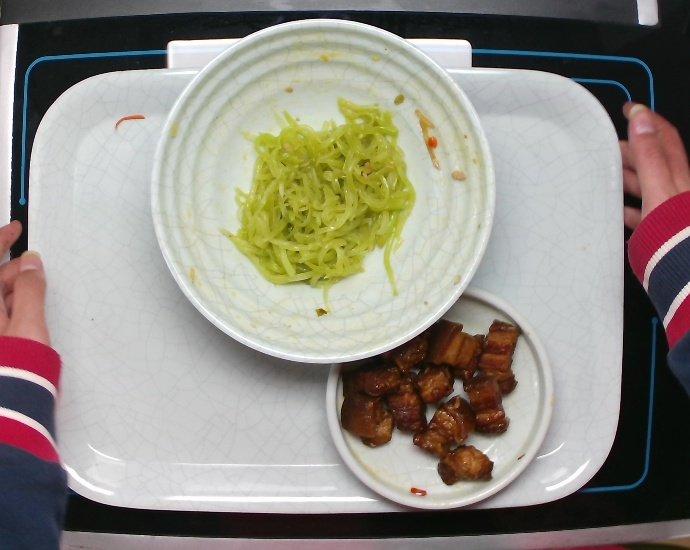JYsf-Da_Tang_Wan: (143, 14, 501, 370)
JYsf-Xiao_Yuan_Pan: (321, 277, 558, 515)
